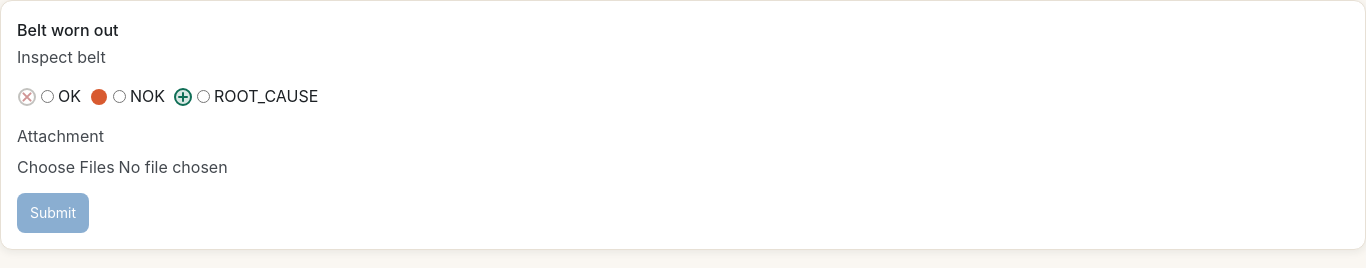
Test case: GembaCheckCard › disables submit until a result is selected
The image size is (1366, 268).
Expected: the button "Submit" is disabled, [17,193,89,233]
Click the radio button labelled "OK" at [48, 97], box [41,90,54,104]
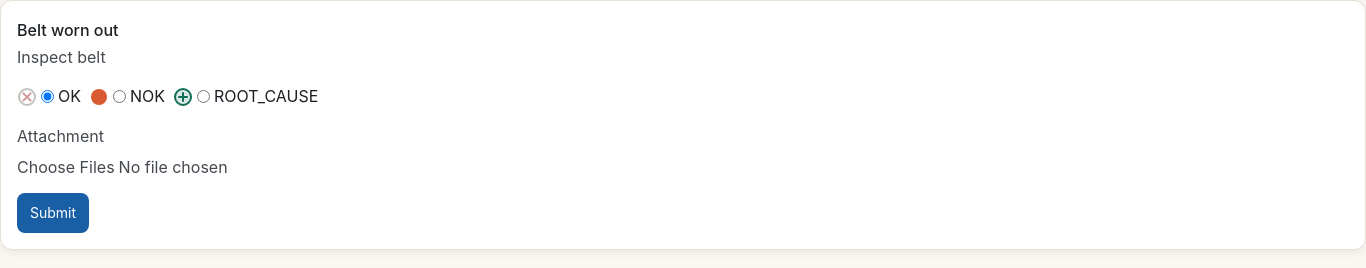
Now the button "Submit" is enabled, box [17,193,89,233]
